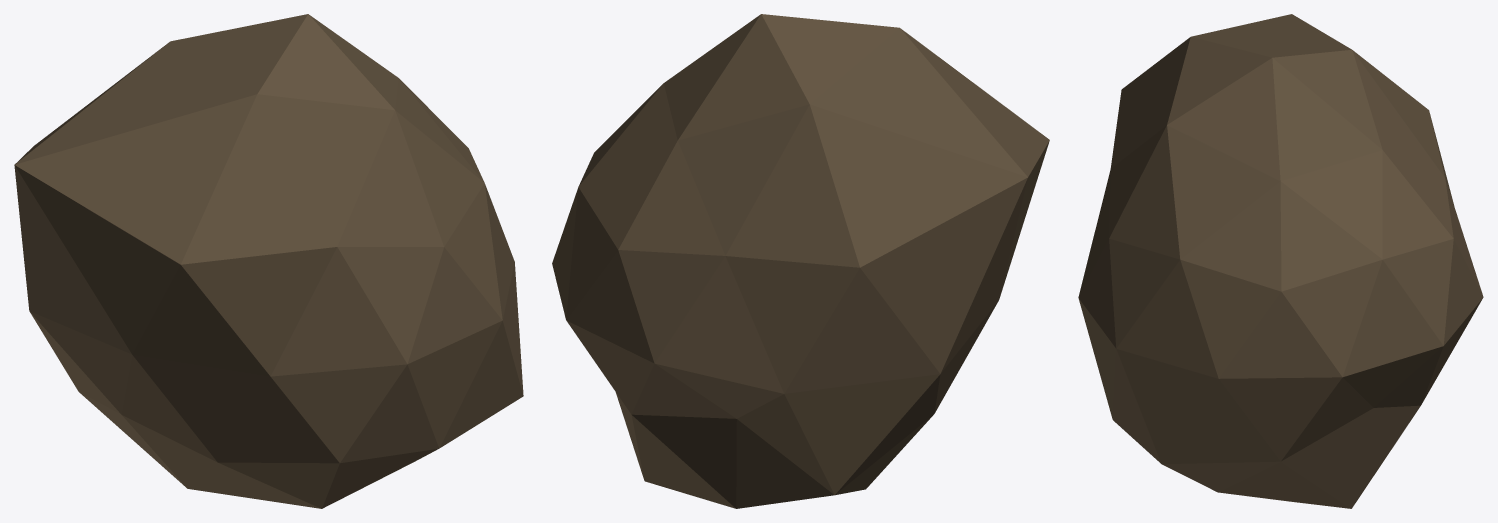
File: Meteor.fbx
3 views of the same model, side by side, from view 1: azimuth 30°, elevation 25°; view 2: azimuth 150°, elevation 25°; view 3: azimuth 270°, elevation 25° (orthographic). The views are drawn at different scales.
Parts seen in each view (by area): view 1: Meteor; view 2: Meteor; view 3: Meteor.
Boxes of the visible parts, x1,y1,x2,y2 form: Meteor: [14, 14, 523, 508]; Meteor: [552, 14, 1049, 508]; Meteor: [1078, 14, 1483, 508].
Bounding box in the file's own units: 237 × 242 × 200.
